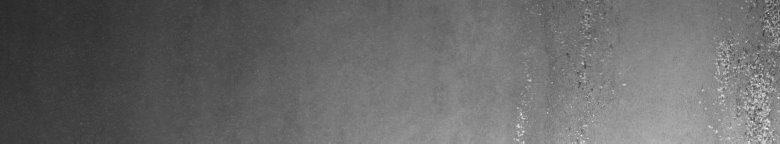hc: (699, 4, 776, 136)
